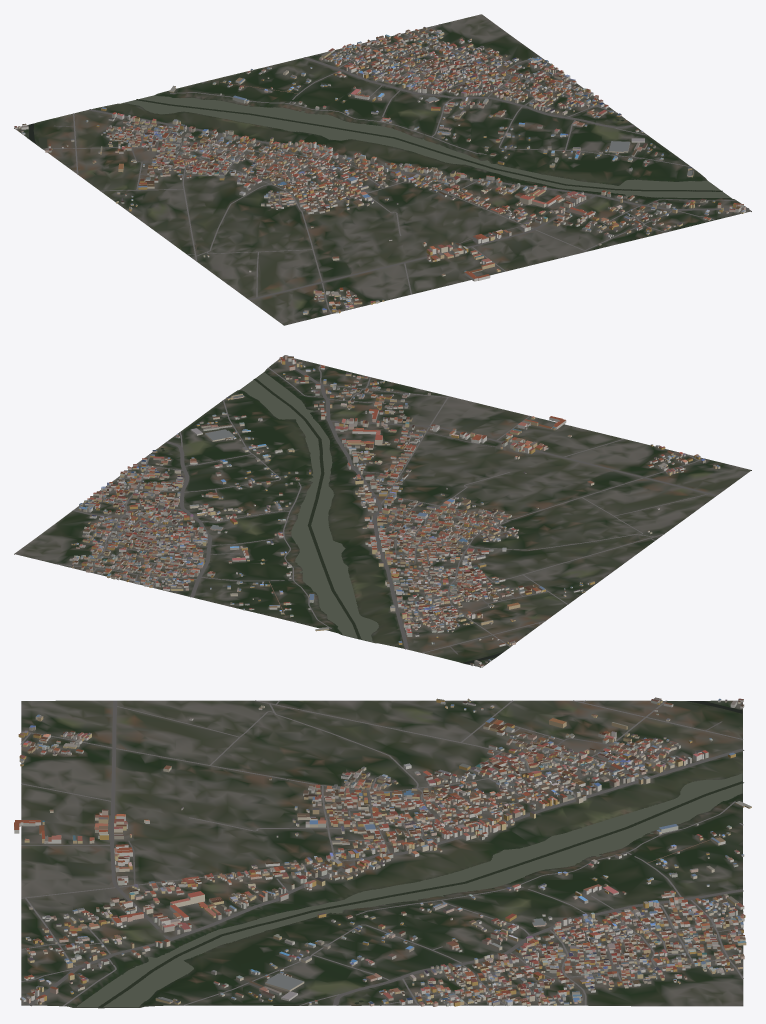
3 views of the same model, one above another, from view 1: azimuth 30°, elevation 25°; view 2: azimuth 150°, elevation 25°; view 3: azimuth 270°, elevation 25° (orthographic). The views are drawn at different scales.
Parts seen in each view (by area): view 1: ground, buildings, water, roads; view 2: ground, buildings, water, roads; view 3: ground, buildings, water, roads.
Boxes of the visible parts, x1,y1,x2,y2 form: ground: (14, 14, 751, 325); buildings: (14, 27, 745, 314); water: (28, 95, 730, 197); roads: (15, 24, 748, 313); ground: (14, 356, 751, 667); buildings: (69, 355, 720, 667); water: (161, 372, 509, 663); roads: (55, 358, 716, 654); ground: (21, 700, 743, 1008); buildings: (14, 697, 751, 1006); water: (77, 701, 743, 1008); roads: (20, 700, 744, 1006).
Bounding box in the file's own units: 1411 × 25 × 1433.
